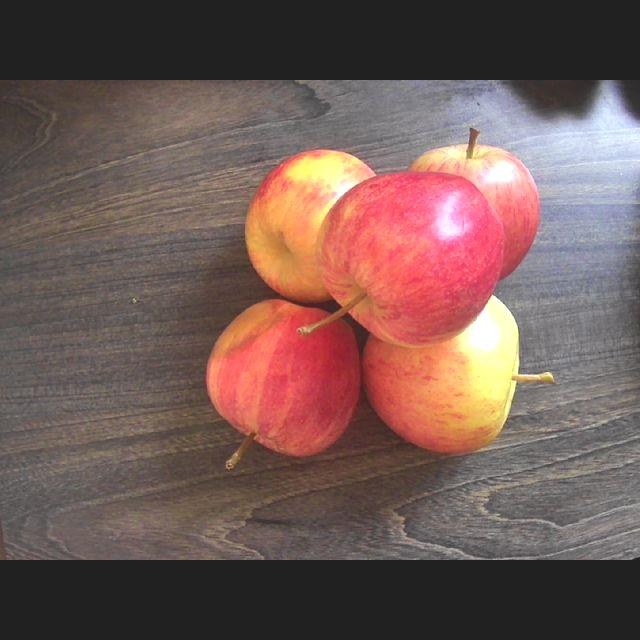manzana: (316, 171, 504, 346), (364, 296, 554, 453), (206, 300, 359, 468), (245, 149, 374, 302), (410, 128, 539, 279)
